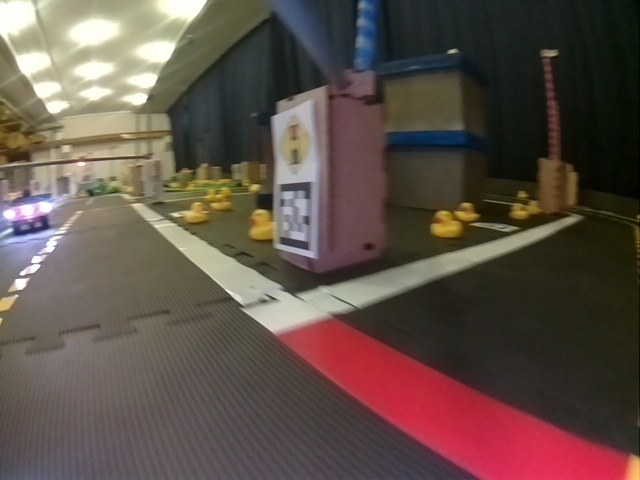Duckie: (248, 209, 275, 239), (432, 211, 461, 235), (184, 202, 206, 222), (459, 203, 475, 220), (211, 193, 228, 208)
Duckiebot: (6, 190, 52, 233)
QR code: (279, 183, 319, 258)
Signal sign: (272, 110, 318, 178)
